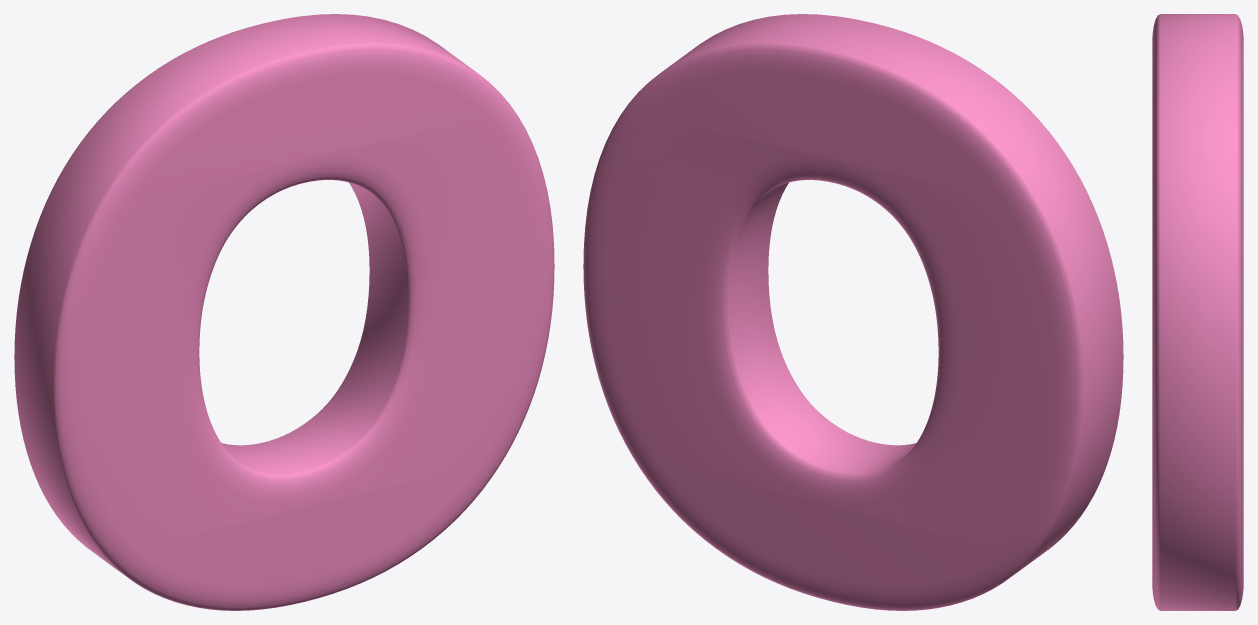
The model's file is RA_Letter_O.fbx.
3 views of the same model, side by side, from view 1: azimuth 30°, elevation 25°; view 2: azimuth 150°, elevation 25°; view 3: azimuth 270°, elevation 25° (orthographic). The views are drawn at different scales.
Parts seen in each view (by area): view 1: RA_Letter_O; view 2: RA_Letter_O; view 3: RA_Letter_O.
Boxes of the visible parts, x1,y1,x2,y2 form: RA_Letter_O: (14,14,554,610); RA_Letter_O: (583,14,1123,610); RA_Letter_O: (1152,14,1243,610).
Bounding box in the file's own units: 171 × 180 × 28.
